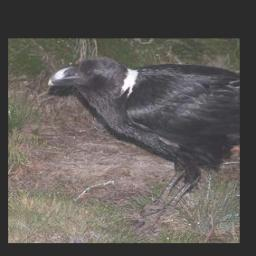Crow: (47, 55, 239, 236)
